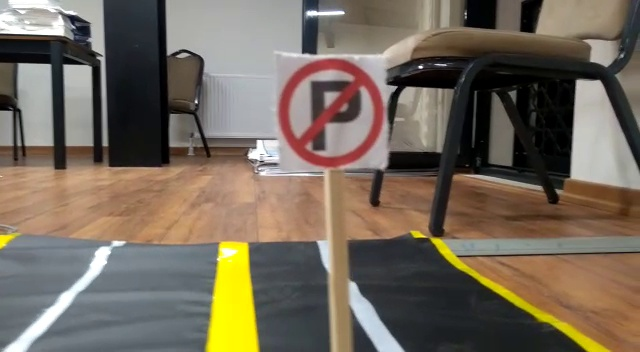park_yapilmaz: (274, 52, 388, 170)
